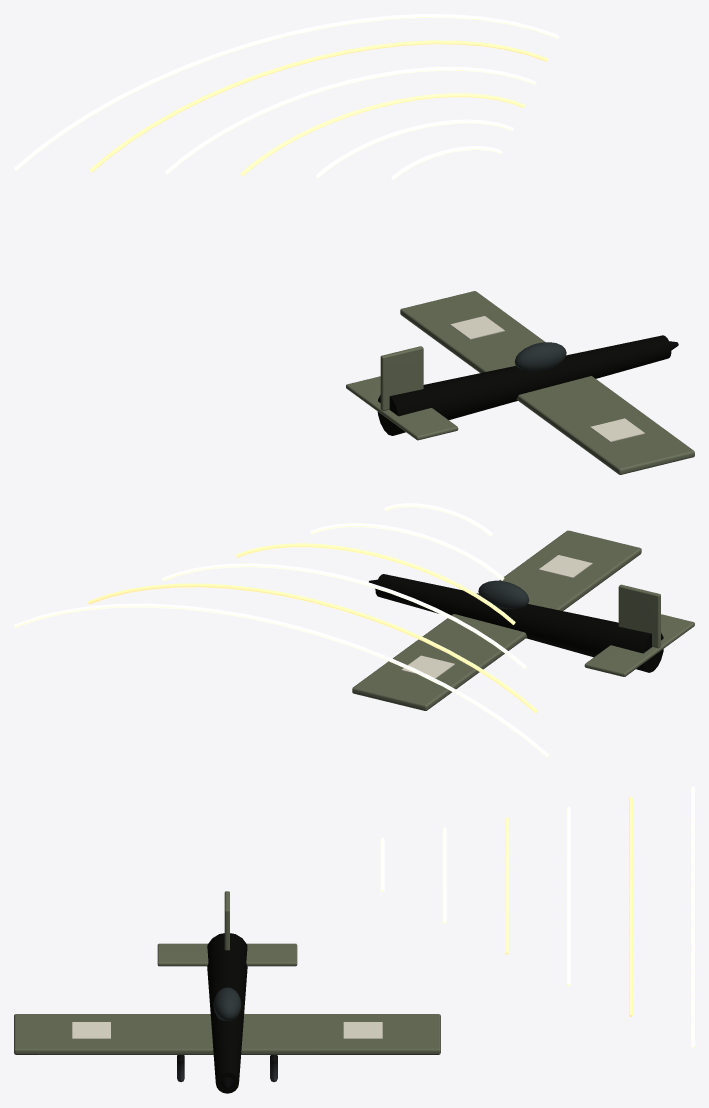
File: props.glb
3 renders of one model, top to bottom at view 1: azimuth 30°, elevation 25°; view 2: azimuth 150°, elevation 25°; view 3: azimuth 270°, elevation 25°, orthographic. The views are drawn at different scales.
Visible parts, largest first — view 1: anim-bomber-wing, anim-bomber-fus, anim-wave-w5, anim-wave-w4, anim-bomber-tail, anim-bomber-fin, anim-wave-w3, anim-wave-w2, anim-bomber-canopy, anim-wave-w1, anim-bomber-roundel0, anim-bomber-roundel1; view 2: anim-bomber-wing, anim-bomber-fus, anim-wave-w5, anim-wave-w4, anim-bomber-tail, anim-bomber-fin, anim-wave-w3, anim-wave-w2, anim-bomber-canopy, anim-wave-w1, anim-bomber-roundel1, anim-bomber-roundel0 (+1 smaller); view 3: anim-bomber-wing, anim-bomber-fus, anim-bomber-tail, anim-wave-w5, anim-wave-w4, anim-bomber-canopy, anim-wave-w3, anim-bomber-roundel0, anim-bomber-roundel1, anim-wave-w2, anim-wave-w1.
Part boxes in pixels (x1,y1,x2,y2): anim-bomber-wing: [400, 291, 694, 474]; anim-bomber-fus: [377, 335, 671, 435]; anim-wave-w5: [14, 14, 559, 170]; anim-wave-w4: [89, 40, 547, 172]; anim-bomber-tail: [346, 376, 458, 440]; anim-bomber-fin: [380, 346, 423, 410]; anim-wave-w3: [165, 67, 536, 174]; anim-wave-w2: [240, 93, 524, 176]; anim-bomber-canopy: [515, 342, 566, 371]; anim-wave-w1: [316, 119, 513, 178]; anim-bomber-roundel0: [450, 316, 504, 339]; anim-bomber-roundel1: [590, 418, 644, 441]; anim-bomber-wing: [352, 530, 641, 710]; anim-bomber-fus: [375, 574, 663, 672]; anim-wave-w5: [14, 603, 549, 757]; anim-wave-w4: [88, 583, 537, 713]; anim-bomber-tail: [584, 614, 694, 676]; anim-bomber-fin: [618, 584, 660, 648]; anim-wave-w3: [162, 563, 526, 669]; anim-wave-w2: [236, 543, 515, 624]; anim-bomber-canopy: [478, 580, 529, 609]; anim-wave-w1: [310, 523, 504, 580]; anim-bomber-roundel1: [539, 555, 592, 577]; anim-bomber-roundel0: [401, 655, 454, 678]; anim-bomber-wing: [14, 1014, 440, 1054]; anim-bomber-fus: [207, 933, 247, 1093]; anim-bomber-tail: [157, 943, 297, 966]; anim-wave-w5: [691, 786, 694, 1048]; anim-wave-w4: [629, 796, 632, 1016]; anim-bomber-canopy: [213, 987, 241, 1020]; anim-wave-w3: [567, 807, 570, 985]; anim-bomber-roundel0: [343, 1022, 382, 1038]; anim-bomber-roundel1: [72, 1022, 110, 1038]; anim-wave-w2: [505, 817, 508, 954]; anim-wave-w1: [442, 827, 446, 923].
Bounding box in the file's own units: 15.71 × 6.04 × 17.55.
